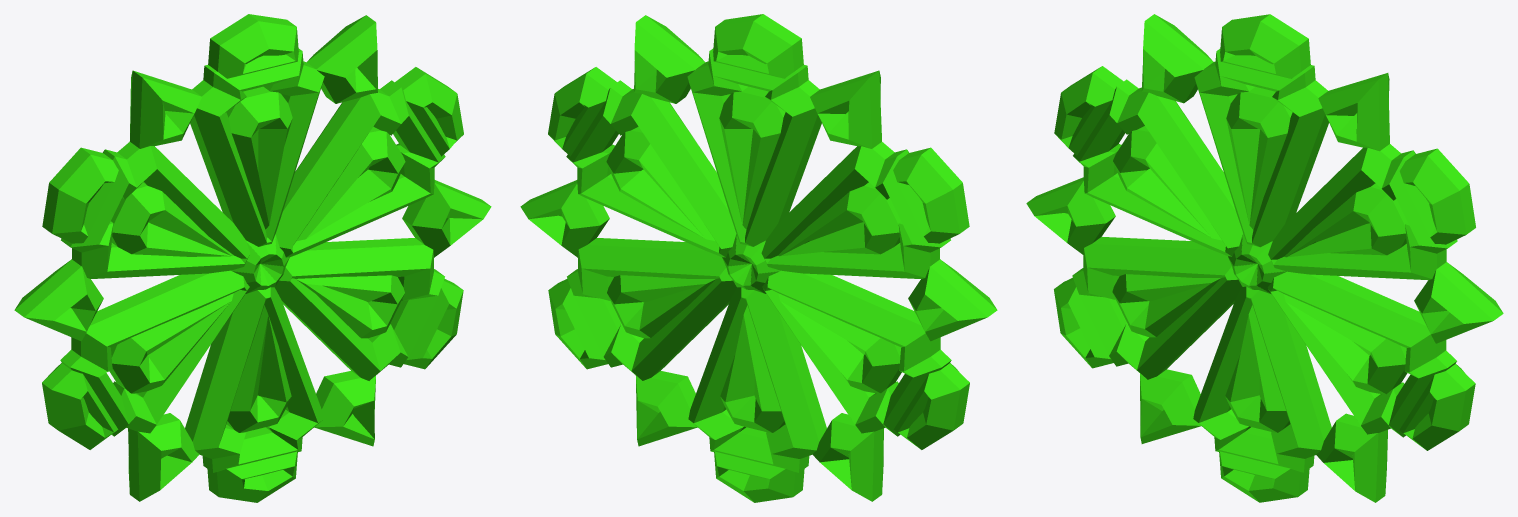
File: rosacea1.glb
3 renders of one model, left to right at view 1: azimuth 30°, elevation 25°; view 2: azimuth 150°, elevation 25°; view 3: azimuth 330°, elevation 25°, orthographic.
Visible parts, largest first — view 1: root.001; view 2: root.001; view 3: root.001.
Boxes of the visible parts, x1=… form: root.001: x1=14, y1=14, x2=491, y2=502; root.001: x1=520, y1=14, x2=997, y2=502; root.001: x1=1026, y1=14, x2=1503, y2=502.
Size of the model in its own units: 6.64 by 6.54 by 0.78.
